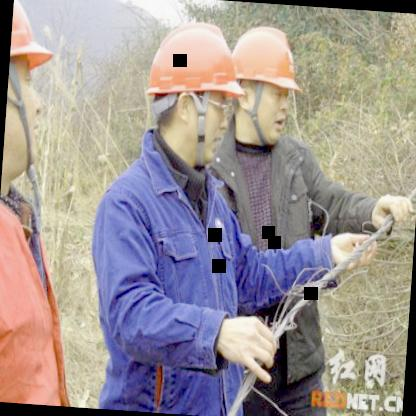helmet: (135, 8, 241, 176), (0, 0, 70, 210), (223, 16, 314, 154)
